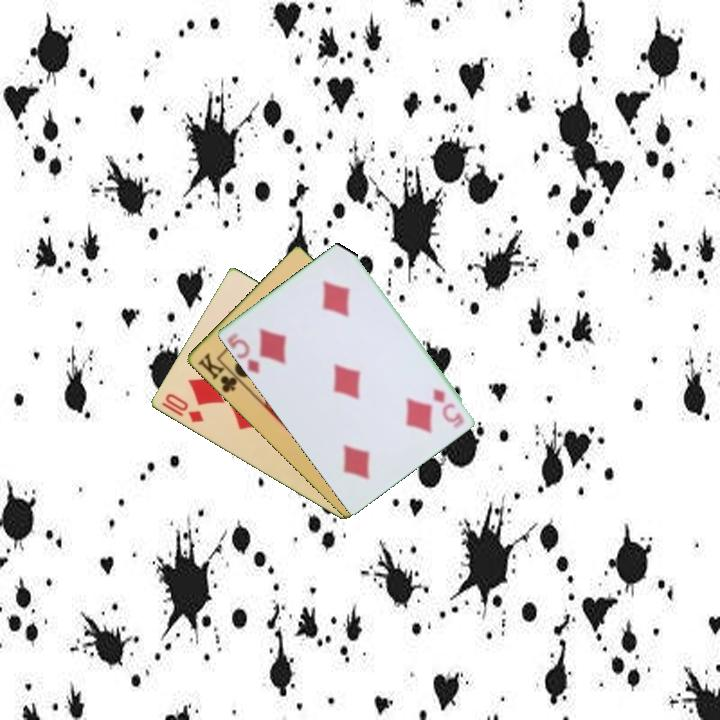10d: (161, 390, 207, 426)
5d: (224, 329, 262, 377), (429, 385, 467, 427)
Kc: (194, 349, 245, 396)
